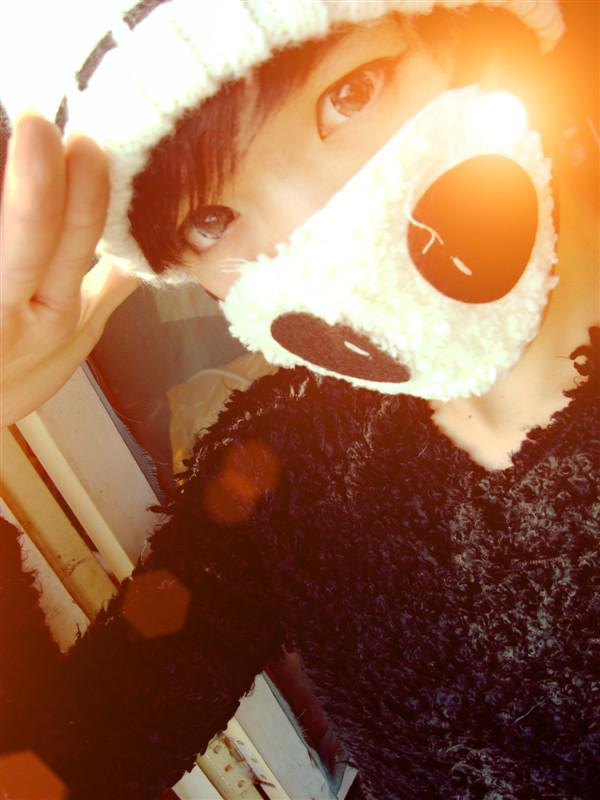OK: (137, 17, 537, 417)
